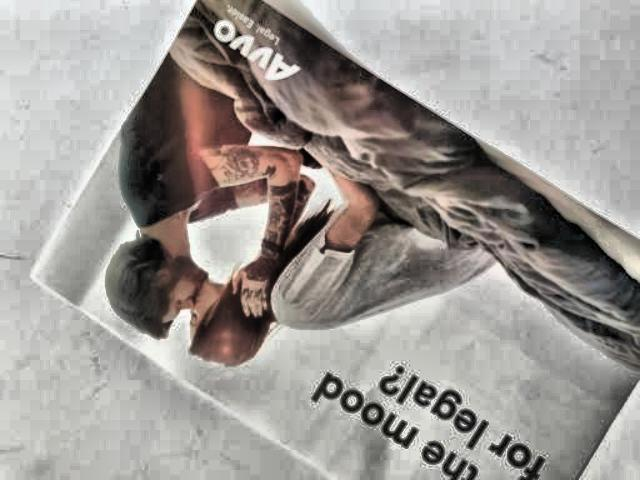Paper: (9, 0, 640, 480)
